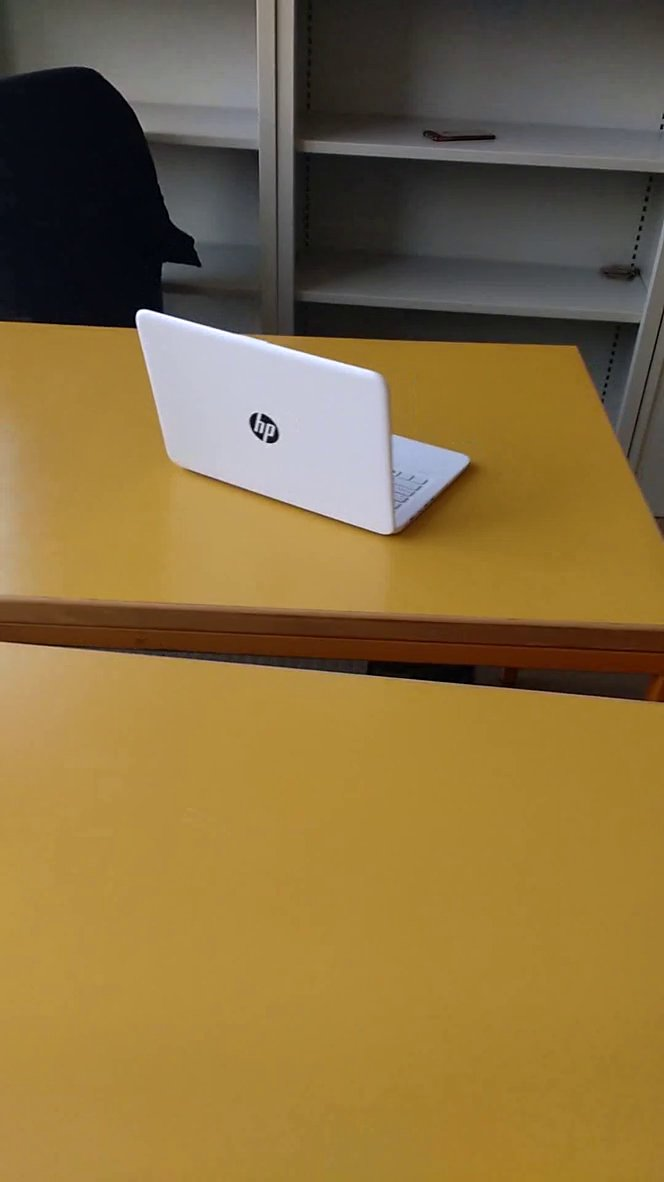laptop: (123, 300, 485, 548)
